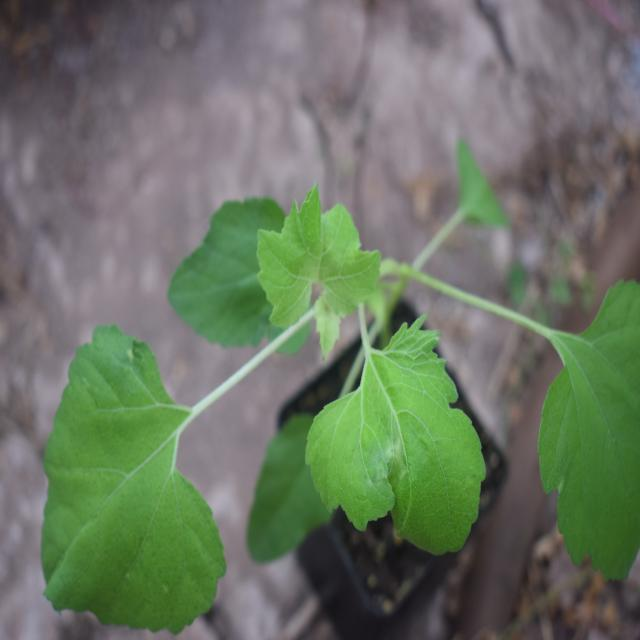cocklebur: (28, 178, 639, 595)
